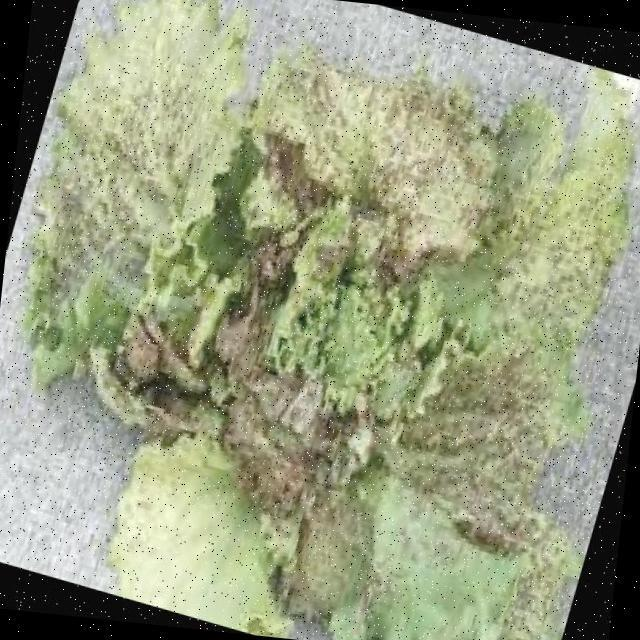Lettuce Mosaic Virus: (147, 89, 524, 568)
